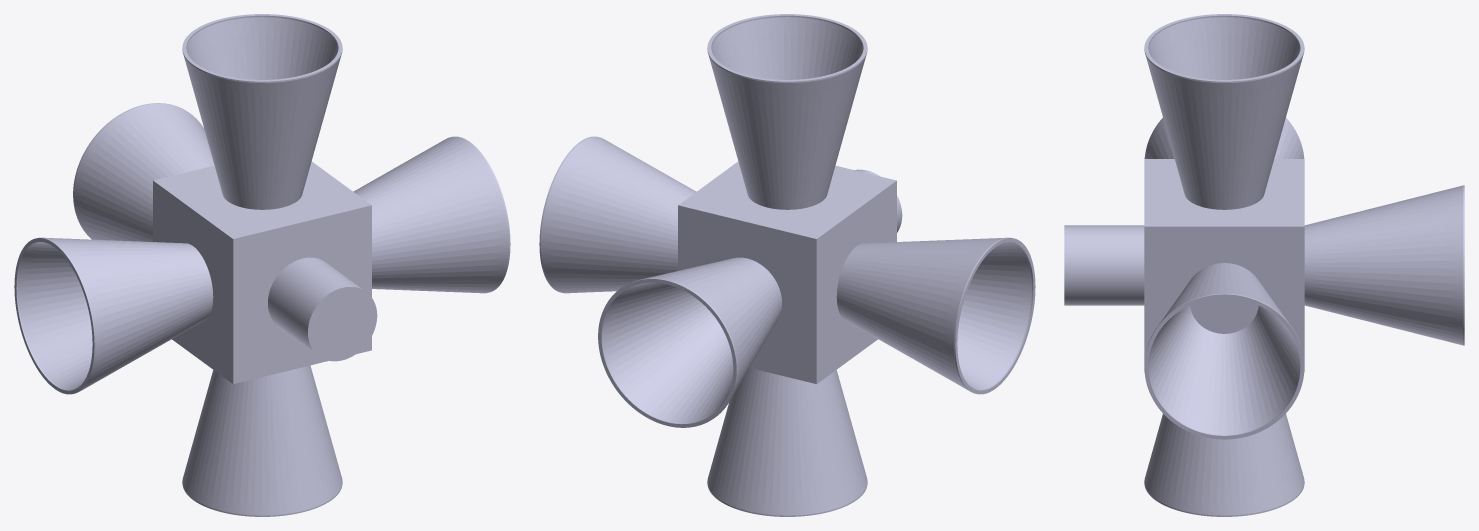
The model's file is RCSL.dae.
3 views of the same model, side by side, from view 1: azimuth 30°, elevation 25°; view 2: azimuth 150°, elevation 25°; view 3: azimuth 270°, elevation 25° (orthographic).
Parts seen in each view (by area): view 1: node0; view 2: node0; view 3: node0.
Part boxes in pixels (box(x1,y1,x2,y2)): node0: box(14, 14, 510, 516); node0: box(539, 14, 1035, 516); node0: box(1064, 14, 1464, 516).
Bounding box in the file's own units: 0.3 × 0.25 × 0.3.
